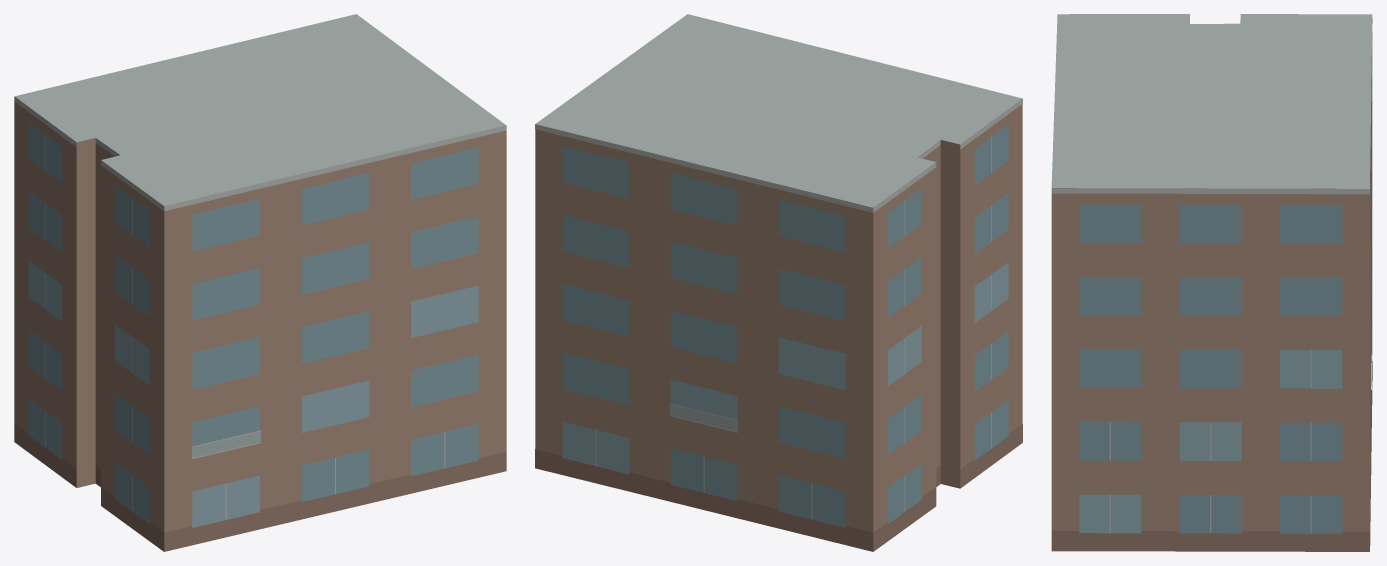
The model's file is survey-upis-32690844.glb.
3 renders of one model, left to right at view 1: azimuth 30°, elevation 25°; view 2: azimuth 150°, elevation 25°; view 3: azimuth 270°, elevation 25°, orthographic. The views are drawn at different scales.
Parts seen in each view (by area): view 1: survey-upis-32690844.tmp; view 2: survey-upis-32690844.tmp; view 3: survey-upis-32690844.tmp.
Boxes of the visible parts, x1,y1,x2,y2 form: survey-upis-32690844.tmp: (14,14,506,551); survey-upis-32690844.tmp: (535,14,1022,551); survey-upis-32690844.tmp: (1051,14,1372,551).
Size of the model in its own units: 16.87 by 16.32 by 13.08.
